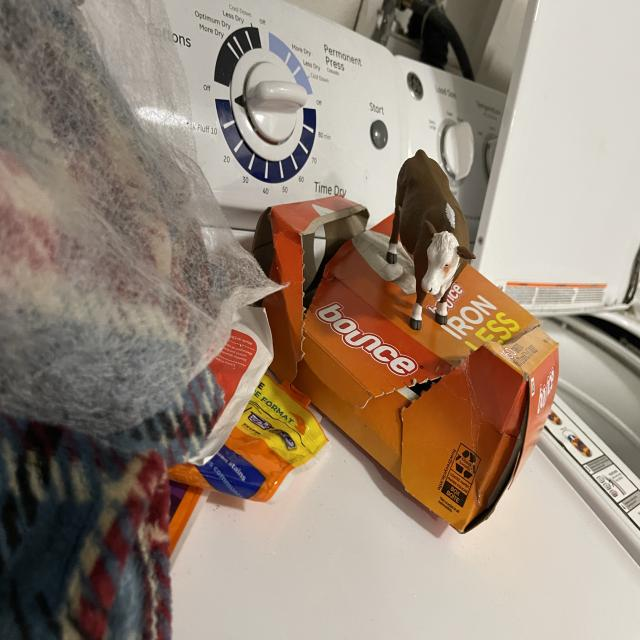cow: (361, 144, 489, 303)
